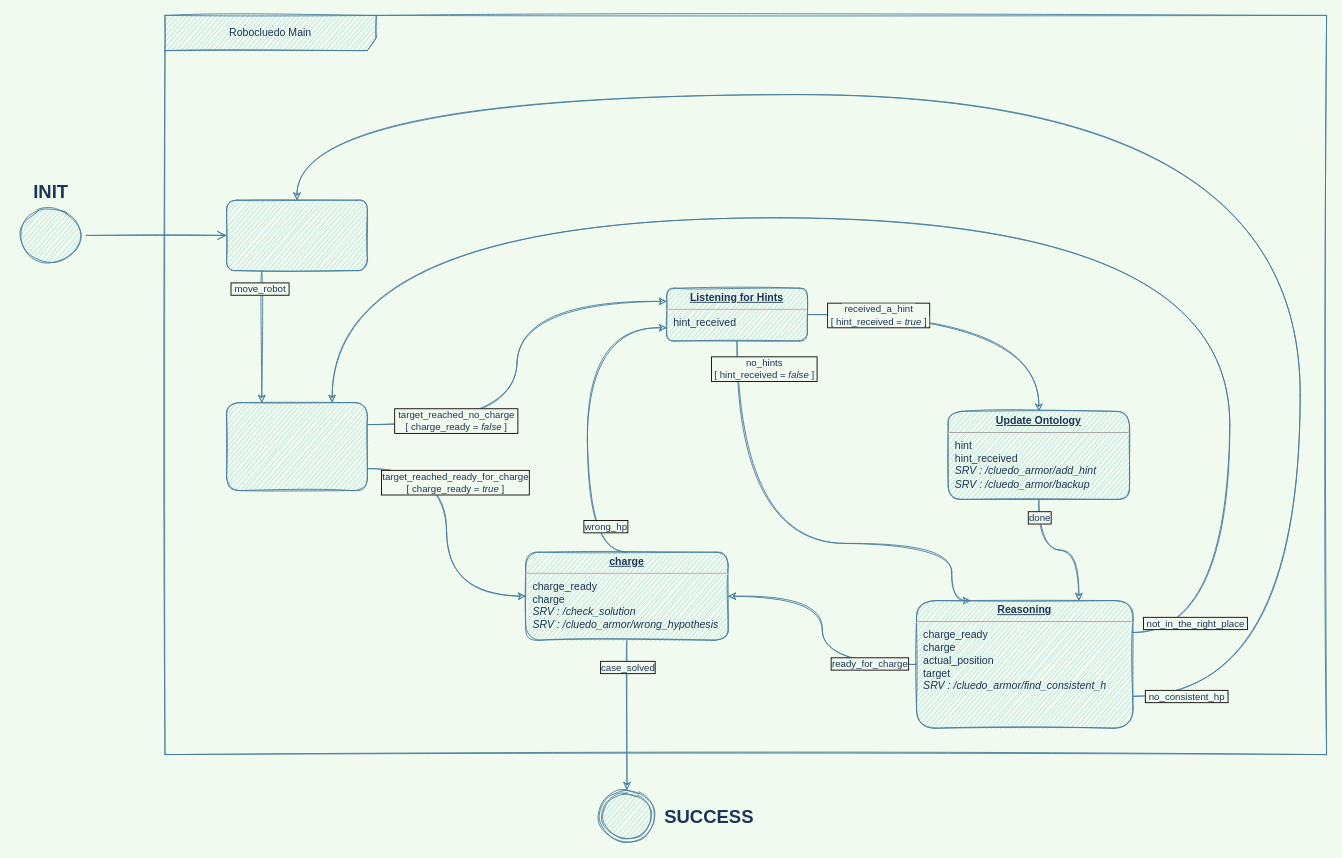
Image size: 1342x858. Some labels were removed from this diagram. The centre of each missing label's shape, as x and y in pixels:
Moving actual_position target charge_ready SRV : /go_to: pixel 296 446
Random Target target actual_position SRV : /random_target: pixel 296 235
